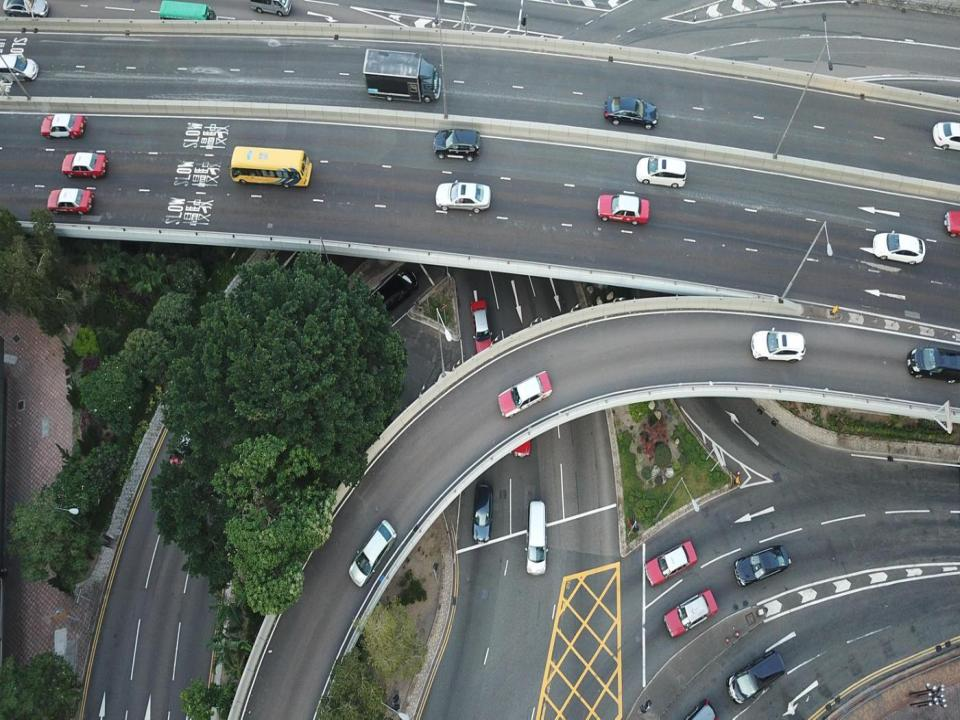bus: (229, 142, 313, 192)
car: (347, 518, 398, 588), (167, 408, 212, 481), (661, 588, 717, 636), (368, 269, 419, 318), (495, 375, 557, 414), (645, 538, 696, 584), (748, 324, 805, 364), (730, 546, 792, 582), (637, 154, 686, 187), (603, 96, 658, 125), (876, 228, 921, 262), (438, 182, 488, 212), (470, 292, 494, 354), (598, 193, 651, 220), (41, 111, 87, 140), (472, 480, 492, 542), (61, 153, 108, 179), (44, 190, 92, 214), (5, 51, 36, 84), (668, 702, 724, 719), (1, 4, 49, 22), (932, 122, 960, 146), (255, 4, 300, 16)
truck: (363, 45, 444, 107), (156, 3, 217, 36), (528, 499, 550, 579)
van: (725, 653, 785, 702), (909, 343, 960, 381)
